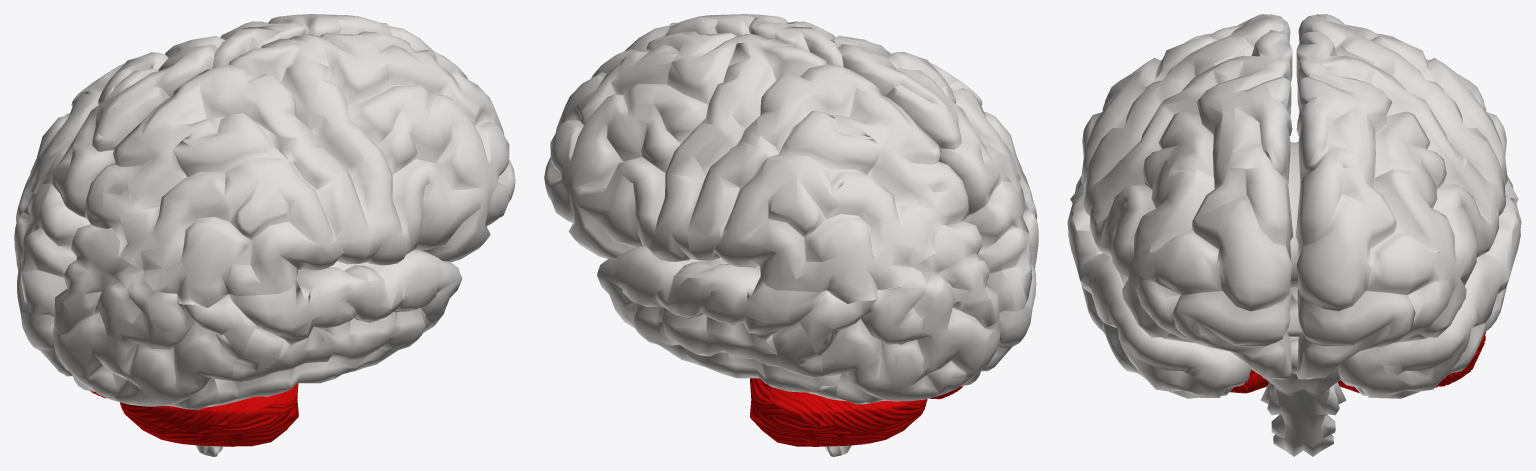
File: brain.dae
The picture shows the model from 3 angles, left to right: view 1: azimuth 30°, elevation 25°; view 2: azimuth 150°, elevation 25°; view 3: azimuth 270°, elevation 25°; orthographic projection. The views are drawn at different scales.
Visible parts, largest first — view 1: pariet (×2), frontal (×2), occipit (×2), temp, cereb; view 2: pariet (×2), frontal (×2), occipit (×2), temp, cereb; view 3: frontal (×2), temp (×2), pariet (×2), stem, corpus, cereb.
Part boxes in pixels (x1,y1,x2,y2): pariet (×2): [22, 36, 370, 307]; frontal (×2): [212, 14, 515, 265]; occipit (×2): [14, 183, 256, 409]; temp: [205, 250, 462, 407]; cereb: [90, 383, 298, 446]; pariet (×2): [687, 35, 1030, 303]; frontal (×2): [544, 14, 843, 261]; occipit (×2): [799, 181, 1038, 404]; temp: [597, 246, 846, 401]; cereb: [750, 378, 963, 446]; frontal (×2): [1083, 30, 1505, 379]; temp (×2): [1067, 176, 1521, 398]; pariet (×2): [1081, 14, 1507, 203]; stem: [1251, 287, 1346, 456]; corpus: [1288, 142, 1300, 287]; cereb: [1230, 332, 1485, 393].
Size of the model in its own units: 6.42 by 5.28 by 5.62.
